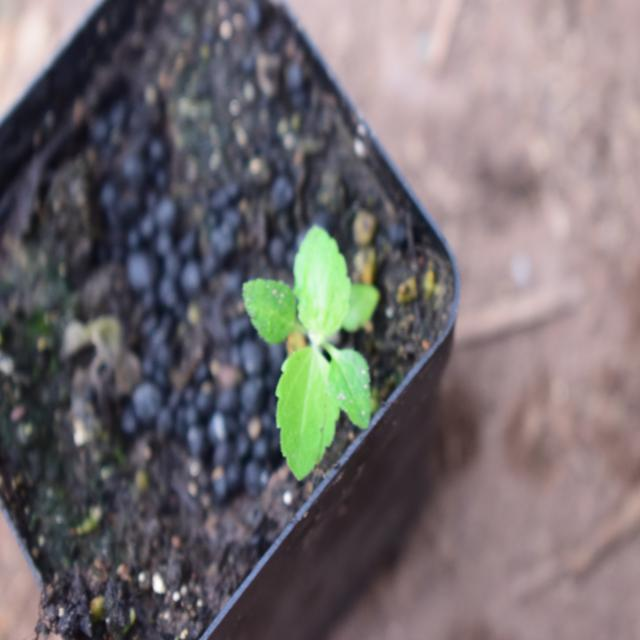billygoat_weed: (236, 210, 397, 451)
